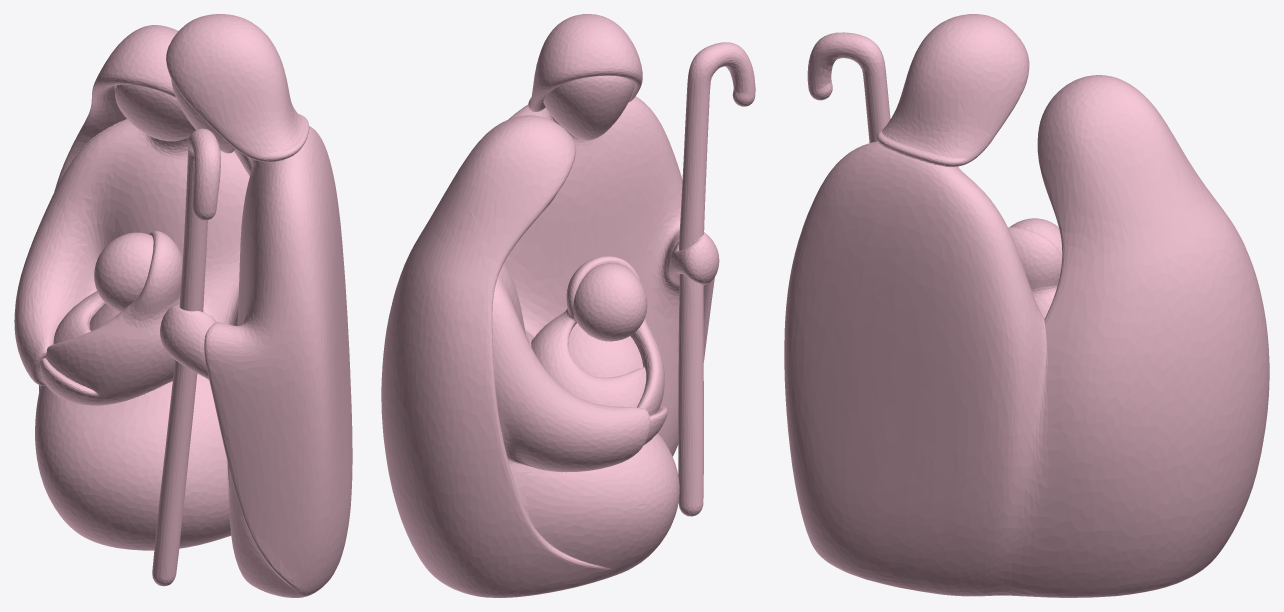
Rendered from sagrada-familia-minimalista.glb.
3 views of the same model, side by side, from view 1: azimuth 30°, elevation 25°; view 2: azimuth 150°, elevation 25°; view 3: azimuth 270°, elevation 25° (orthographic). The views are drawn at different scales.
Visible parts, largest first — view 1: pieza; view 2: pieza; view 3: pieza.
Part boxes in pixels (<box>): pieza: <box>14,14,352,597</box>; pieza: <box>381,14,755,597</box>; pieza: <box>784,14,1269,597</box>.
Bounding box in the file's own units: 0.0526 × 0.1 × 0.0826.
